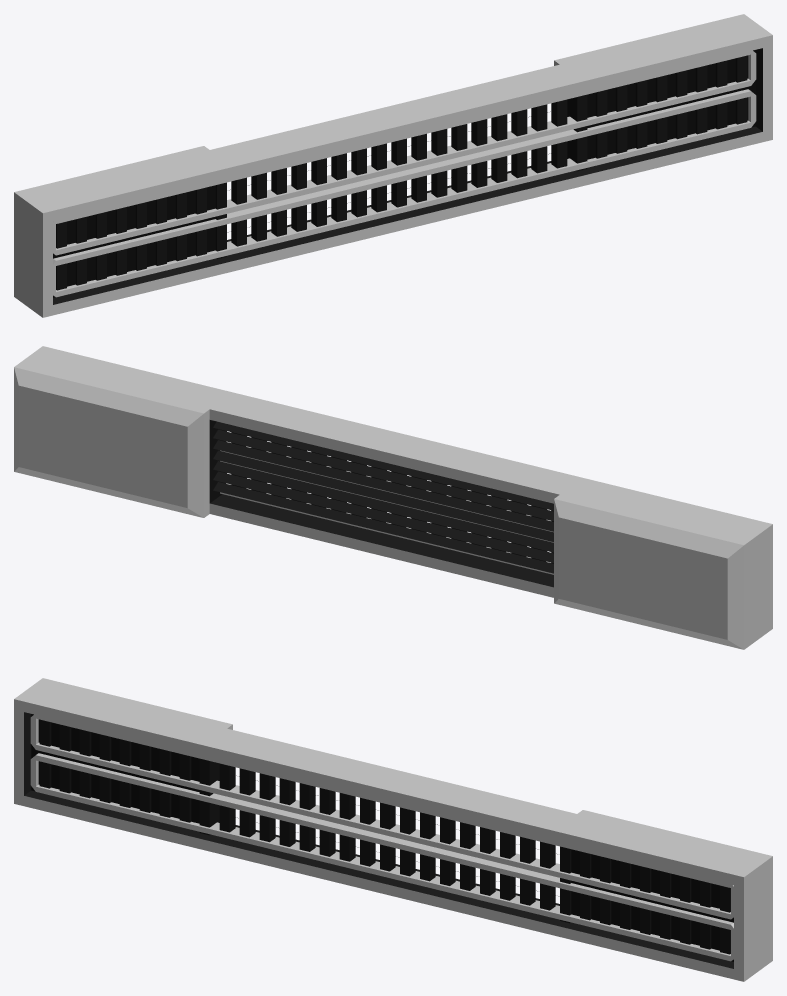
File: broker_grille_mitchell.obj
3 views of the same model, one above another, from view 1: azimuth 30°, elevation 25°; view 2: azimuth 150°, elevation 25°; view 3: azimuth 330°, elevation 25° (orthographic).
Parts seen in each view (by area): view 1: group0, LeftHeadLightCover, RightHeadLightCover; view 2: group0; view 3: group0, RightHeadLightCover, LeftHeadLightCover.
Part boxes in pixels (x1=…): group0: x1=14, y1=14, x2=772, y2=317; LeftHeadLightCover: x1=587, y1=50, x2=756, y2=167; RightHeadLightCover: x1=53, y1=181, x2=218, y2=297; group0: x1=14, y1=346, x2=772, y2=649; group0: x1=14, y1=678, x2=772, y2=981; RightHeadLightCover: x1=30, y1=714, x2=199, y2=831; LeftHeadLightCover: x1=568, y1=845, x2=733, y2=961.
Size of the model in its own units: 2.28 by 0.3125 by 0.1875.
